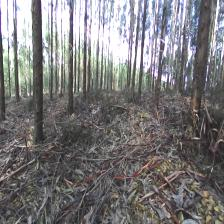trunk: (187, 7, 213, 118), (31, 3, 43, 143), (154, 28, 166, 103), (131, 14, 140, 90), (137, 26, 145, 99), (68, 23, 74, 115), (13, 32, 19, 101), (83, 15, 87, 98), (87, 38, 91, 93), (50, 48, 53, 101)
